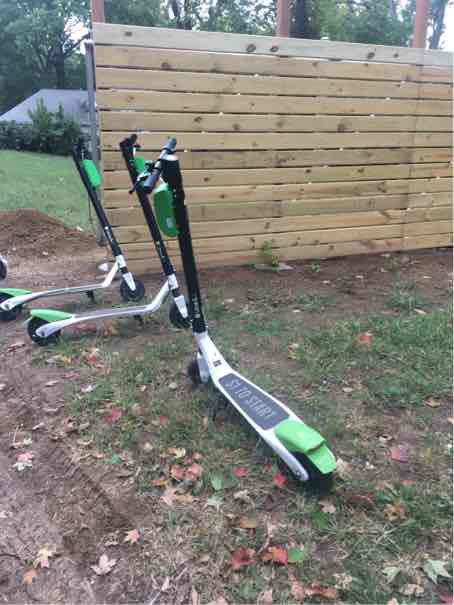scooter: (129, 138, 341, 496), (26, 125, 197, 351), (1, 131, 147, 324)
